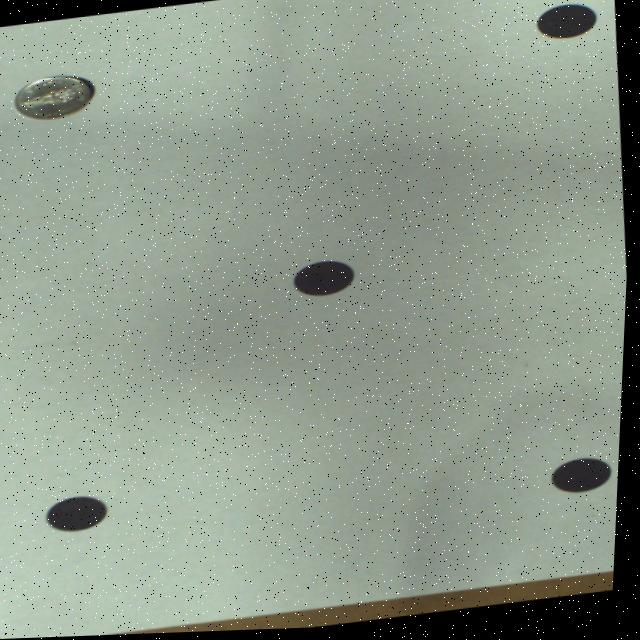space: (294, 263, 357, 299), (555, 462, 615, 497), (51, 497, 111, 532), (536, 8, 596, 43)
tail1bath: (14, 76, 94, 119)
